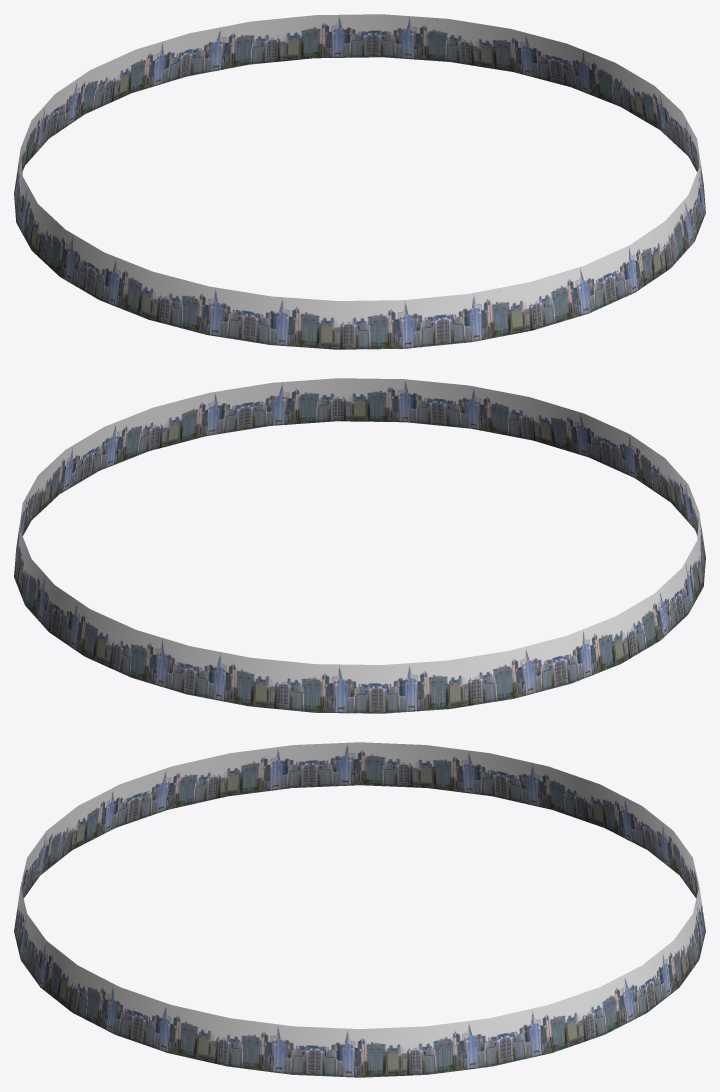
3 renders of one model, top to bottom at view 1: azimuth 30°, elevation 25°; view 2: azimuth 150°, elevation 25°; view 3: azimuth 270°, elevation 25°, orthographic.
Visible parts, largest first — view 1: ta26_00; view 2: ta26_00; view 3: ta26_00.
Boxes of the visible parts, box(x1,y1,x2,y2) form: ta26_00: box(14, 14, 705, 349); ta26_00: box(14, 378, 705, 713); ta26_00: box(14, 742, 705, 1077).
Bounding box in the file's own units: 6552 × 478 × 6552.
